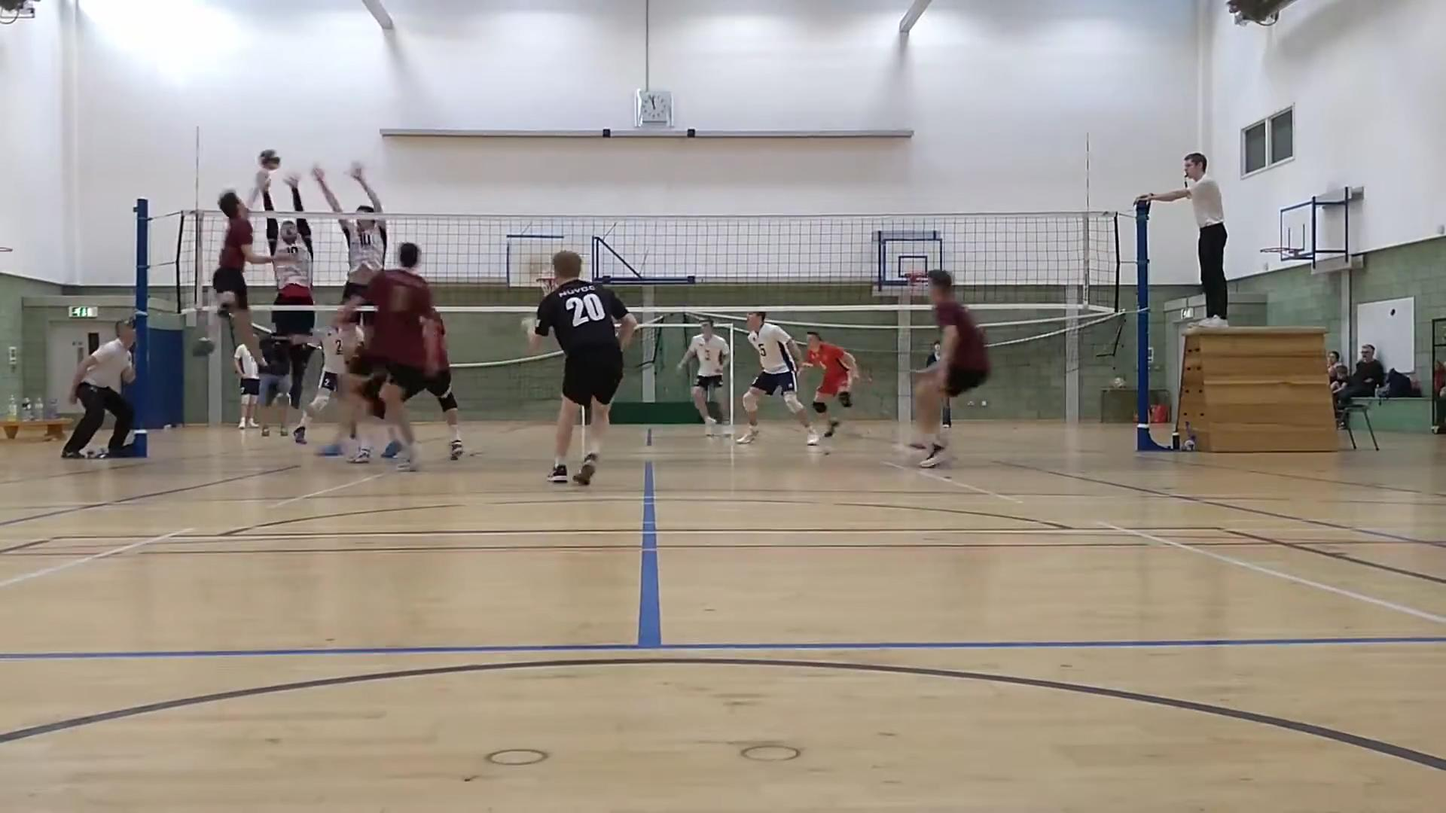Attack: (184, 181, 291, 380)
Block: (249, 160, 315, 419), (315, 152, 393, 315)
Player: (529, 251, 637, 485), (340, 242, 439, 470), (914, 269, 989, 467), (736, 311, 819, 445), (292, 324, 359, 443), (678, 318, 729, 436), (804, 331, 858, 437), (426, 309, 464, 458), (257, 336, 291, 436)
